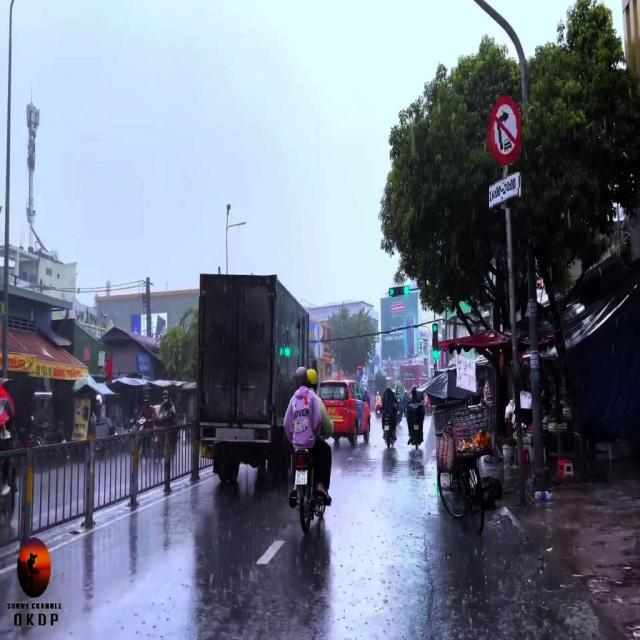cam_o_to_re_phai: (487, 96, 521, 166)
cam_xe_di_nguoc_chieu: (358, 363, 362, 371)
huong_phai_di_vuot_chuong_ngai_vat_phai: (358, 372, 362, 380)
khac: (489, 172, 522, 210)
